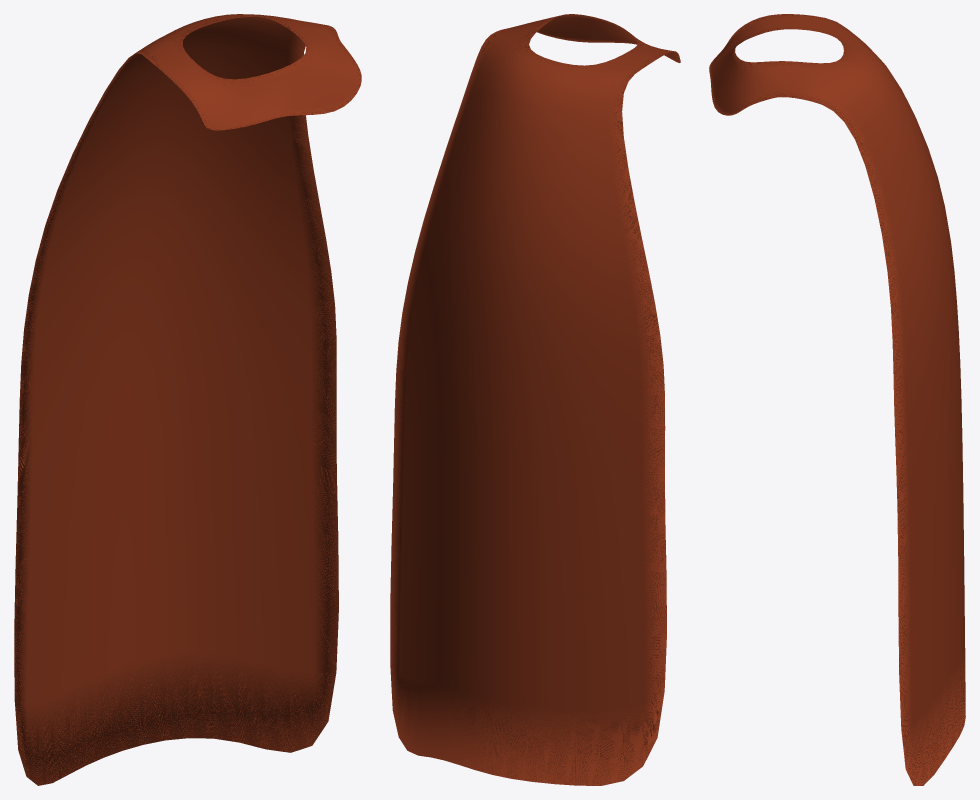
The model's file is Cloak.fbx.
3 renders of one model, left to right at view 1: azimuth 30°, elevation 25°; view 2: azimuth 150°, elevation 25°; view 3: azimuth 270°, elevation 25°, orthographic. The views are drawn at different scales.
Visible parts, largest first — view 1: Cloak; view 2: Cloak; view 3: Cloak.
Part boxes in pixels (<box>): Cloak: <box>14,14,361,785</box>; Cloak: <box>390,14,680,785</box>; Cloak: <box>709,14,965,785</box>.
Size of the model in its own units: 396 by 940 by 317.
